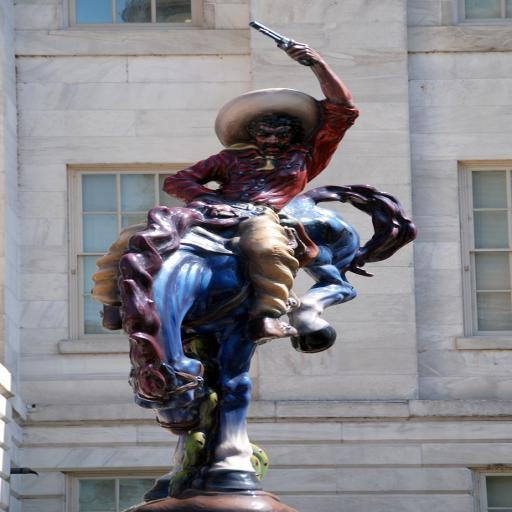horse: (92, 184, 422, 505)
